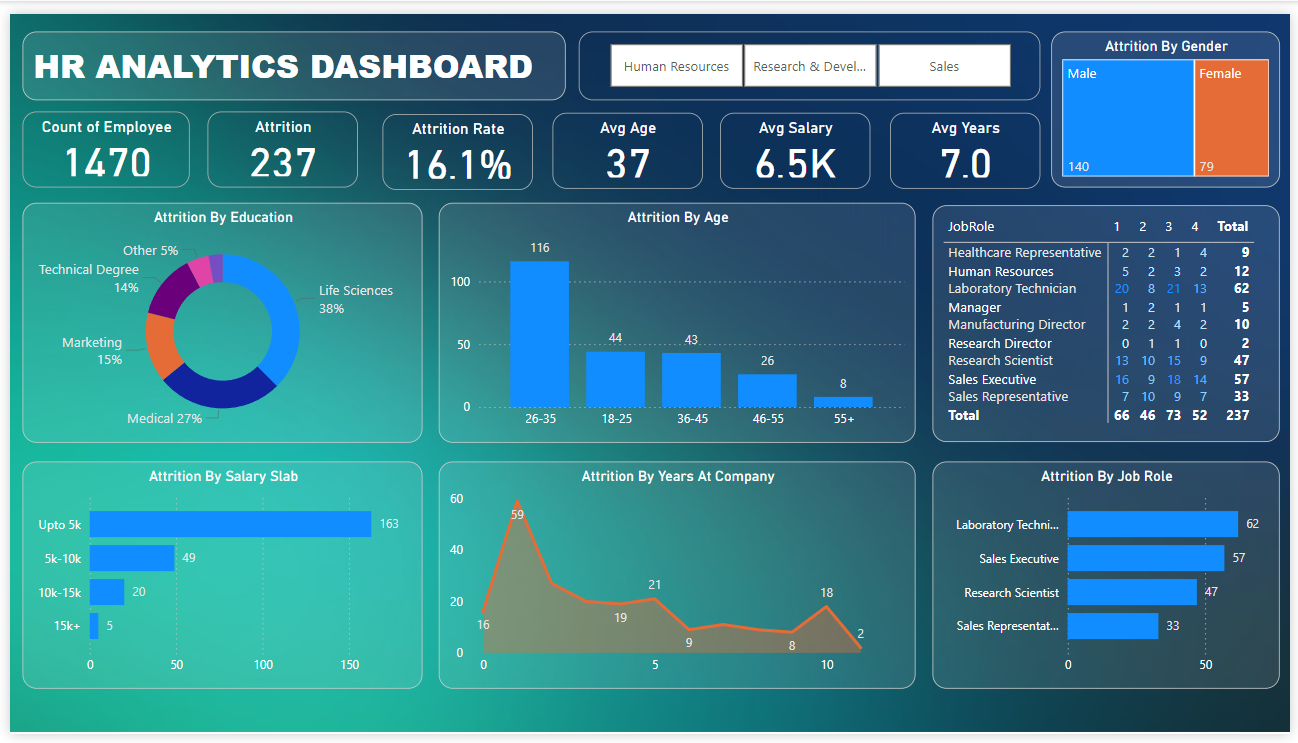

What the dashboard file says about the page in this screenshot:
{"tool":"powerbi","page":{"name":"Page 1","canvas":[1280,720],"ordinal":0},"visuals":[{"type":"card","title":"Count of Employee","fields":{"Values":["CountNonNull(HR_Analytics.EmpID)"]},"box":[12.9,97.1,167.1,75.7],"z":0},{"type":"card","title":"Attrition","fields":{"Values":["Sum(HR_Analytics.AttritionCount)"]},"box":[197.1,97.1,150,75.7],"z":1000},{"type":"card","title":"Attrition Rate","fields":{"Values":["HR_Analytics.AttritionRate"]},"box":[372.9,100,150,75.7],"z":2000},{"type":"card","title":"Avg Age","fields":{"Values":["Avg(HR_Analytics.Age)"]},"box":[542.9,98.6,150,75.7],"z":3000},{"type":"card","title":"Avg Salary","fields":{"Values":["Avg(HR_Analytics.MonthlyIncome)"]},"box":[710,98.6,150,75.7],"z":4000},{"type":"card","title":"Avg Years","fields":{"Values":["Avg(HR_Analytics.YearsAtCompany)"]},"box":[880,98.6,150,75.7],"z":5000},{"type":"donutChart","title":"Attrition By Education","fields":{"Category":["HR_Analytics.EducationField"],"Y":["Sum(HR_Analytics.AttritionCount)"]},"box":[12.9,188.6,400,240],"z":6000},{"type":"columnChart","title":"Attrition By Age","fields":{"Category":["HR_Analytics.AgeGroup"],"Y":["Sum(HR_Analytics.AttritionCount)"]},"box":[428.6,188.6,477.1,240],"z":7000},{"type":"pivotTable","fields":{"Rows":["HR_Analytics.JobRole"],"Columns":["HR_Analytics.JobSatisfaction"],"Values":["Sum(HR_Analytics.AttritionCount)"]},"box":[922.9,191.4,347.1,237.1],"z":8000},{"type":"barChart","title":"Attrition By Salary Slab","fields":{"Category":["HR_Analytics.SalarySlab"],"Y":["Sum(HR_Analytics.AttritionCount)"]},"box":[12.9,447.1,400,227.1],"z":9000},{"type":"barChart","title":"Attrition By Job Role","fields":{"Category":["HR_Analytics.JobRole"],"Y":["Sum(HR_Analytics.AttritionCount)"]},"box":[922.9,447.1,347.1,227.1],"z":10000},{"type":"areaChart","title":"Attrition By Years At Company","fields":{"Category":["HR_Analytics.YearsAtCompany"],"Y":["Sum(HR_Analytics.AttritionCount)"]},"box":[428.6,447.1,477.1,227.1],"z":11000},{"type":"treemap","title":"Attrition By Gender","fields":{"Group":["HR_Analytics.Gender"],"Values":["Sum(HR_Analytics.AttritionCount)"]},"box":[1041.4,17.1,228.6,155.7],"z":12000},{"type":"slicer","fields":{"Values":["HR_Analytics.Department"]},"box":[568.6,17.1,461.4,68.6],"z":13000},{"type":"textbox","box":[12.9,17.1,542.9,68.6],"z":14000}]}

Visuals, with their boxes in screenshot pixels (x1, y1, x2, y2), scaled from the page's 1280x720 canvas onto the 1298x743 screenshot:
"Count of Employee" card: [13, 100, 183, 178]
"Attrition" card: [200, 100, 352, 178]
"Attrition Rate" card: [378, 103, 530, 181]
"Avg Age" card: [551, 102, 703, 180]
"Avg Salary" card: [720, 102, 872, 180]
"Avg Years" card: [892, 102, 1044, 180]
"Attrition By Education" donutChart: [13, 195, 419, 442]
"Attrition By Age" columnChart: [435, 195, 918, 442]
pivotTable - HR_Analytics.JobRole x HR_Analytics.JobSatisfaction: [936, 198, 1288, 442]
"Attrition By Salary Slab" barChart: [13, 461, 419, 696]
"Attrition By Job Role" barChart: [936, 461, 1288, 696]
"Attrition By Years At Company" areaChart: [435, 461, 918, 696]
"Attrition By Gender" treemap: [1056, 18, 1288, 178]
slicer - HR_Analytics.Department: [577, 18, 1044, 88]
textbox: [13, 18, 564, 88]
